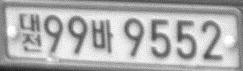2: (200, 19, 223, 60)
5: (149, 18, 171, 58), (176, 19, 197, 60)
9: (122, 17, 145, 57), (66, 15, 88, 53), (43, 14, 63, 52)
대전_V: (19, 12, 42, 52)
바: (91, 18, 113, 54)
